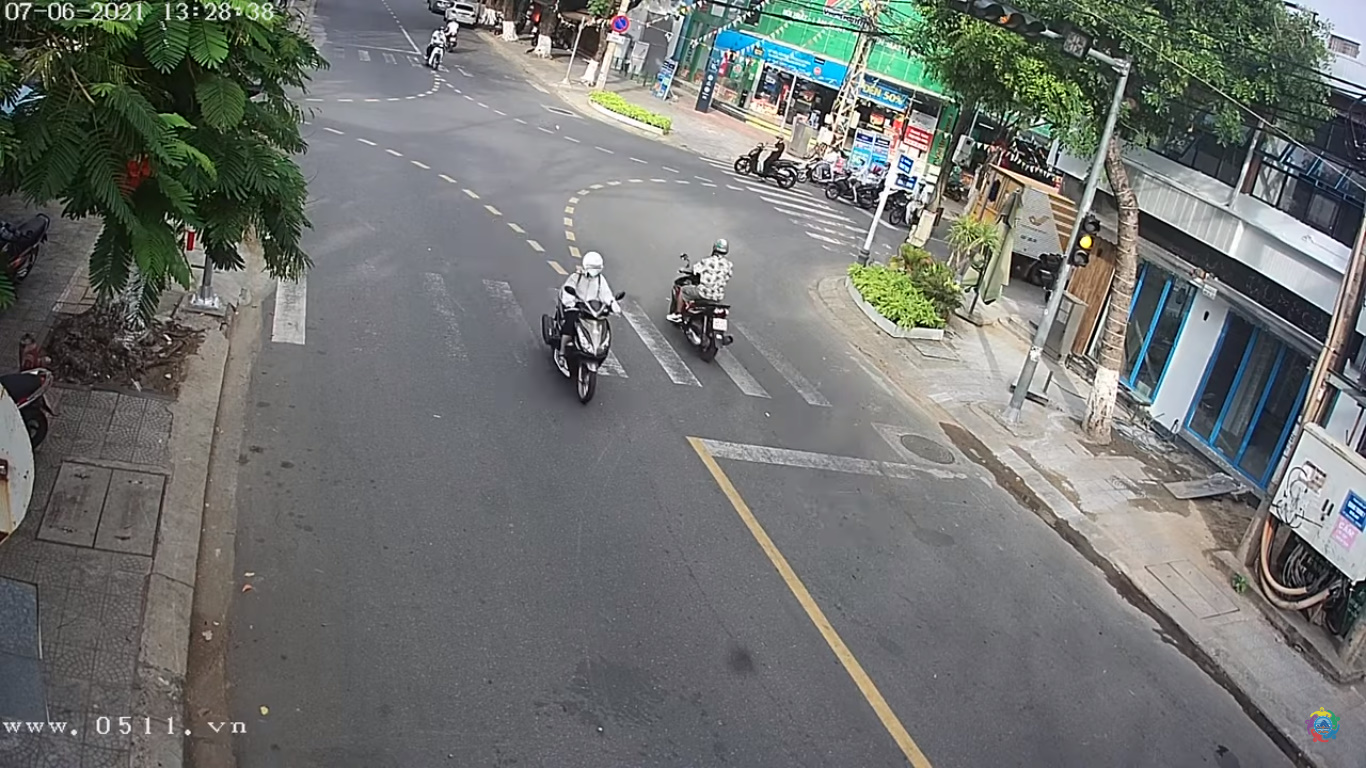motorbike: (543, 257, 626, 398)
